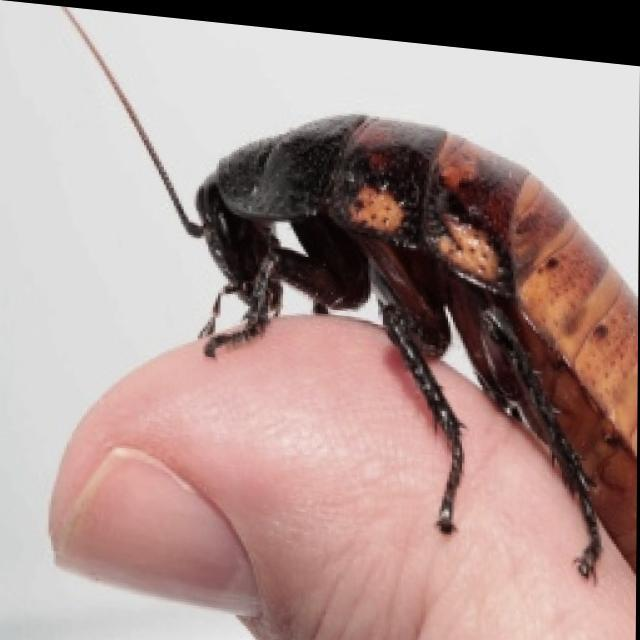cockroach: (174, 115, 640, 553)
